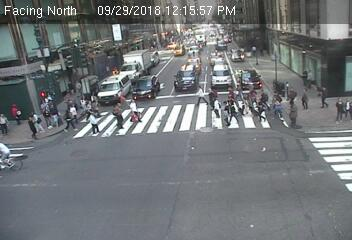car: (97, 75, 129, 101), (119, 51, 151, 75), (176, 64, 198, 94), (131, 76, 159, 99), (238, 68, 263, 93), (211, 64, 233, 90), (187, 55, 203, 72), (148, 50, 160, 65), (185, 45, 200, 56), (233, 49, 245, 62), (215, 40, 229, 50), (223, 35, 235, 45), (175, 45, 187, 55), (167, 42, 176, 49)
